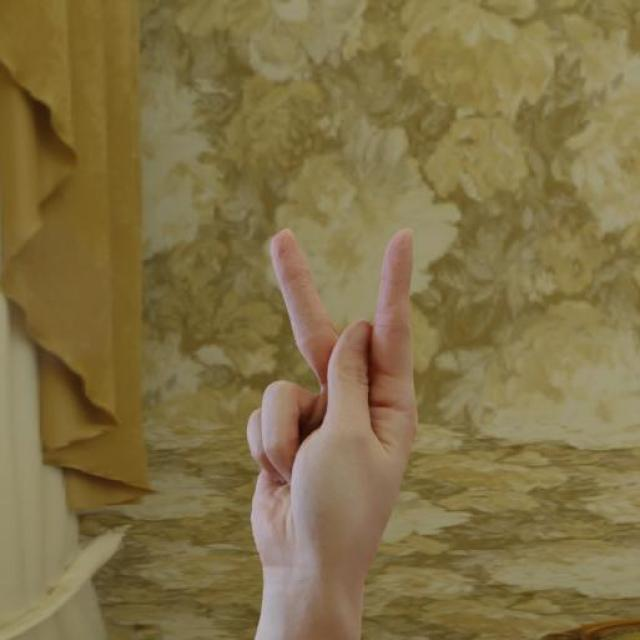K: (196, 206, 463, 628)
